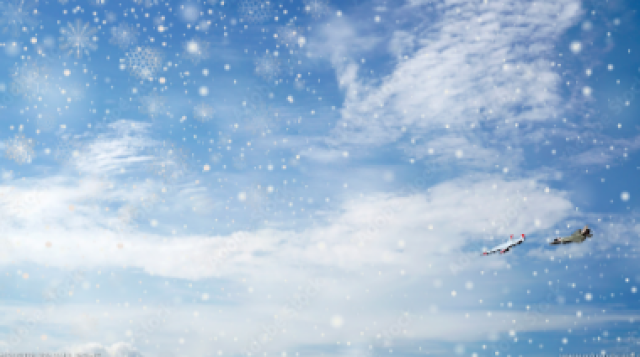airplane: (549, 225, 593, 244)
military drone: (480, 233, 525, 256)
